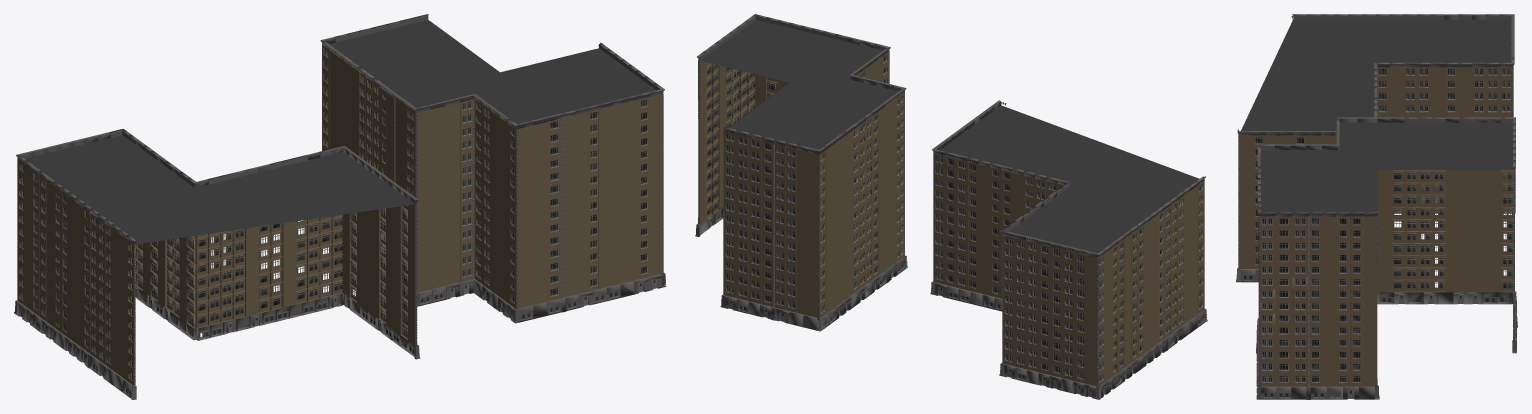
Rendered from PredioPlaceHolder.fbx.
The picture shows the model from 3 angles, left to right: view 1: azimuth 30°, elevation 25°; view 2: azimuth 150°, elevation 25°; view 3: azimuth 270°, elevation 25°; orthographic projection. The views are drawn at different scales.
Visible parts, largest first — view 1: Predio2PlaceHolder, Predio1PlaceHolder; view 2: Predio1PlaceHolder, Predio2PlaceHolder; view 3: Predio2PlaceHolder, Predio1PlaceHolder.
Boxes of the visible parts, x1=… form: Predio2PlaceHolder: x1=320, y1=14, x2=666, y2=323; Predio1PlaceHolder: x1=14, y1=128, x2=420, y2=399; Predio1PlaceHolder: x1=930, y1=100, x2=1207, y2=399; Predio2PlaceHolder: x1=695, y1=14, x2=907, y2=331; Predio2PlaceHolder: x1=1256, y1=117, x2=1517, y2=399; Predio1PlaceHolder: x1=1236, y1=14, x2=1515, y2=282.
Size of the model in its own units: 12637 by 4627 by 6317.
